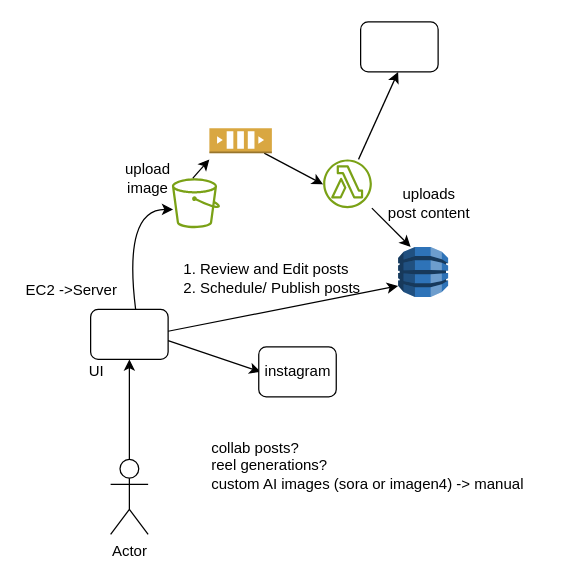
Image size: 573x583. Some labels were removed from this diagram. Each missing label, with the box of its shape:
LLM: (359, 21, 438, 72)
Web app: (89, 308, 168, 359)
